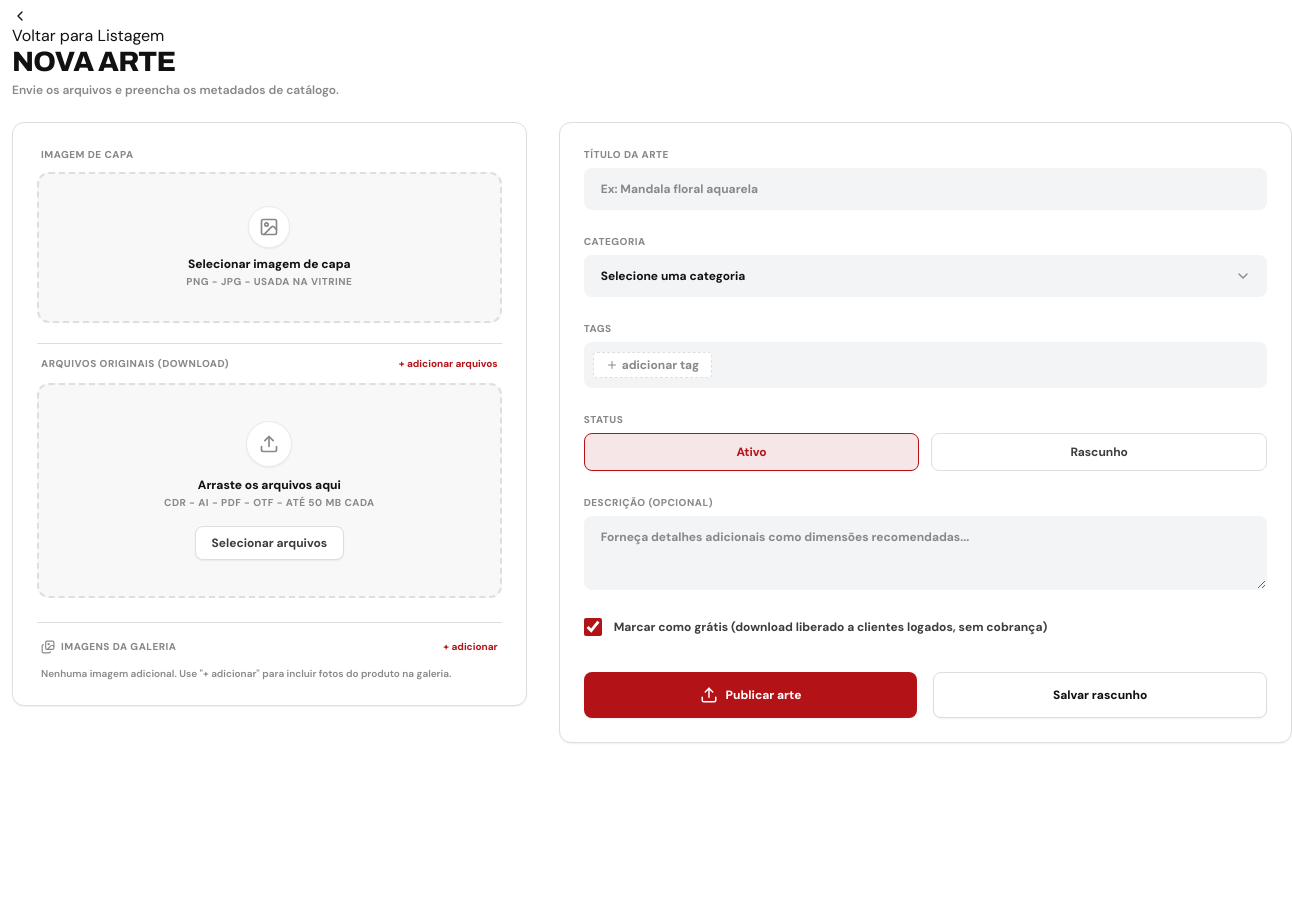
Scenario: ArtworkFormNks - Gerenciamento de Tags › seleciona uma tag existente ao clicar sobre ela no dropdown
Click the button "adicionar tag" at {"x": 652, "y": 365}, box x1=593 y1=352 x2=712 y2=378
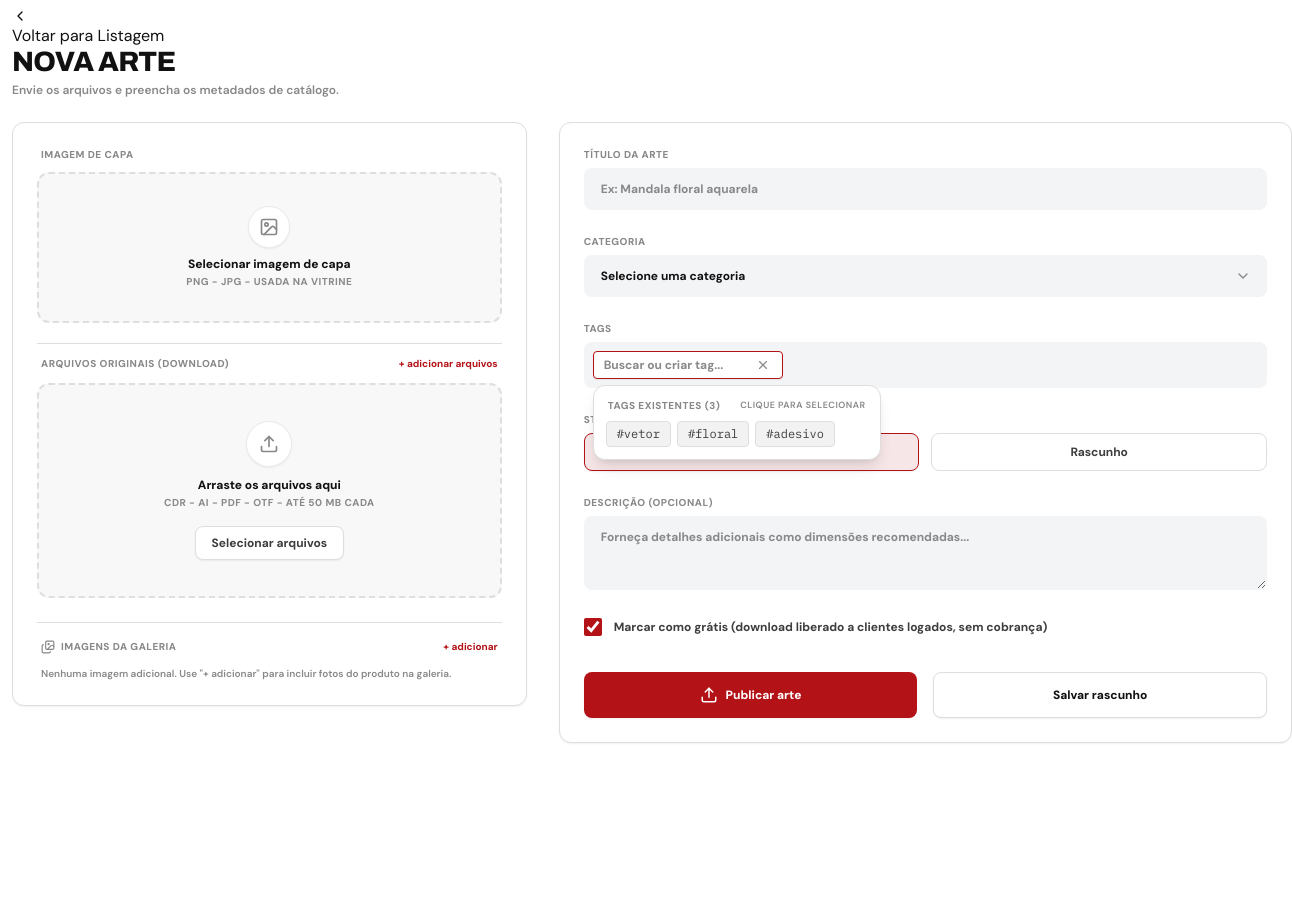
Expected: the button "#vetor" is shown
Clica na tag existente
Press the mouse on the button "#vetor" at {"x": 638, "y": 434}, box x1=606 y1=421 x2=671 y2=447
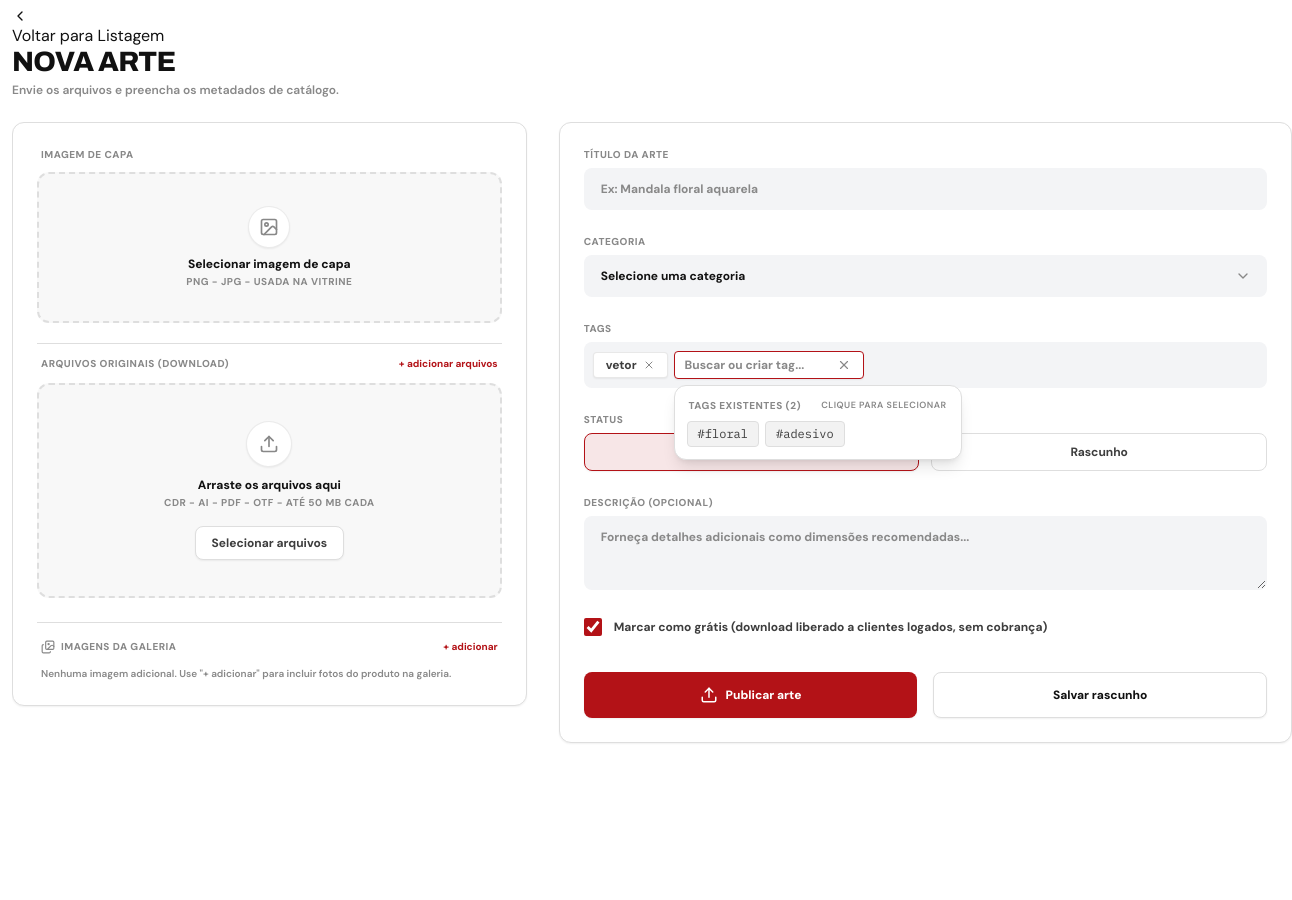
Expected: the text "vetor" is shown, x1=593 y1=352 x2=668 y2=378
Expected: the button "#vetor" is gone
